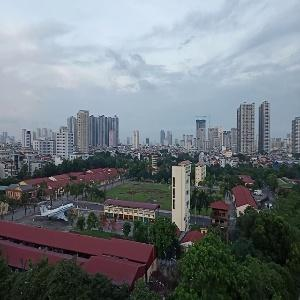drone: (245, 182, 288, 225)
